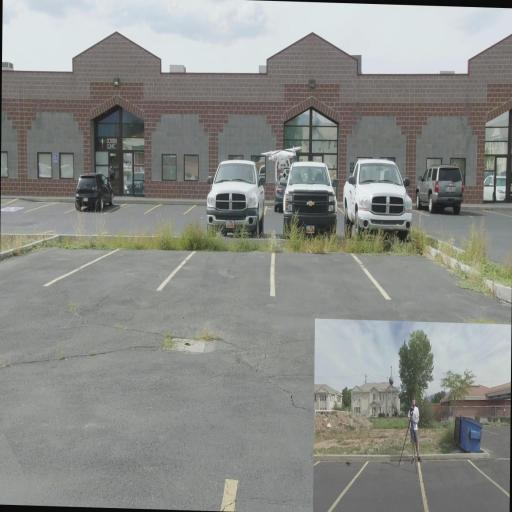drone: (261, 145, 303, 182)
